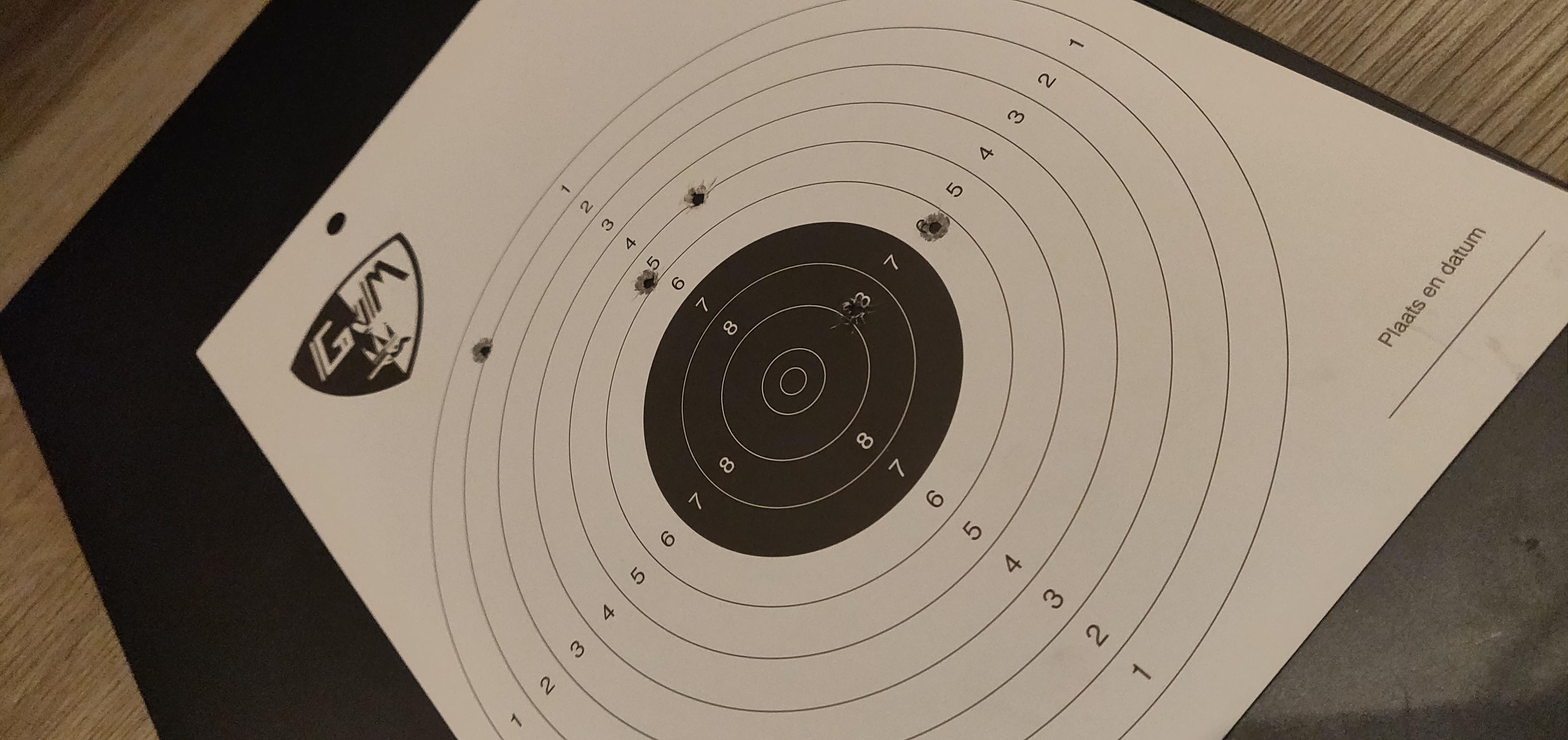hole: (860, 392, 950, 413), (1122, 320, 1190, 338), (1056, 432, 1127, 449), (943, 297, 999, 311), (795, 222, 857, 233)
